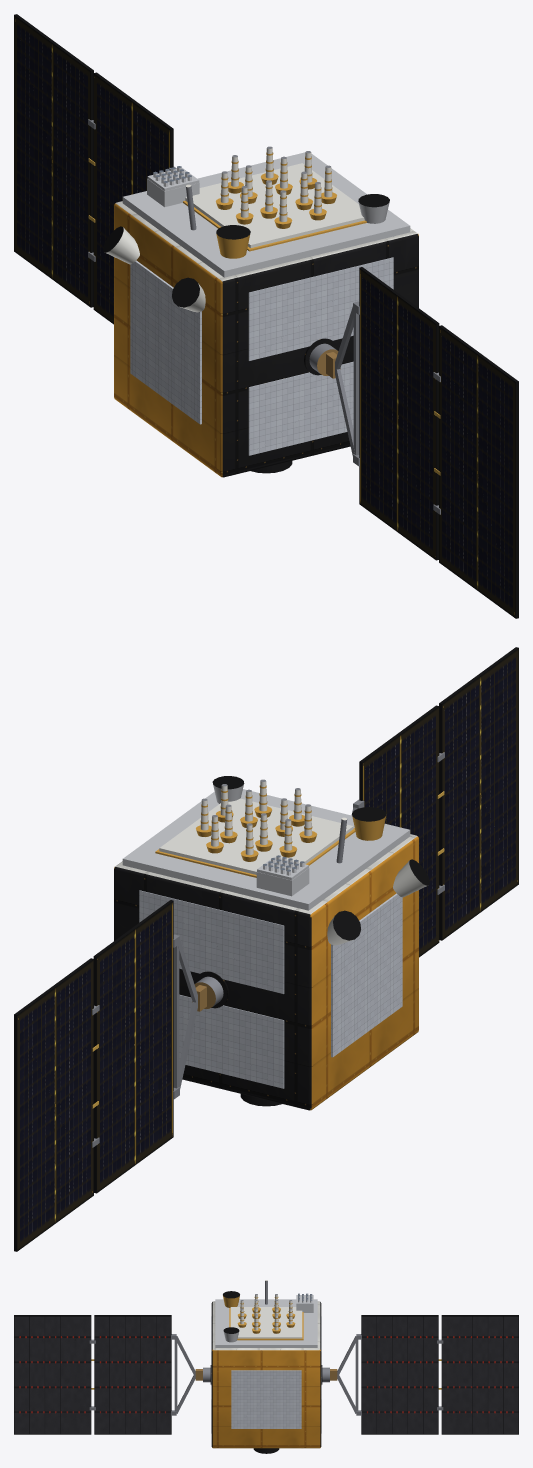
The model's file is navic-irnss1.glb.
3 renders of one model, top to bottom at view 1: azimuth 30°, elevation 25°; view 2: azimuth 150°, elevation 25°; view 3: azimuth 270°, elevation 25°, orthographic. The views are drawn at different scales.
Visible parts, largest first — view 1: bus, wing-Y, wing+Y, payload_deck, sadm_-Y; view 2: bus, wing+Y, wing-Y, payload_deck, sadm_+Y; view 3: wing+Y, wing-Y, bus, payload_deck.
Boxes of the visible parts, bbox=[...] form: bus: bbox=[103, 201, 418, 477]; wing-Y: bbox=[326, 267, 518, 618]; wing+Y: bbox=[14, 14, 176, 324]; payload_deck: bbox=[122, 146, 410, 277]; sadm_-Y: bbox=[304, 338, 338, 375]; bus: bbox=[114, 834, 429, 1110]; wing+Y: bbox=[14, 900, 206, 1251]; wing-Y: bbox=[351, 647, 518, 957]; payload_deck: bbox=[122, 776, 410, 910]; sadm_+Y: bbox=[194, 971, 228, 1008]; wing+Y: bbox=[330, 1315, 518, 1434]; wing-Y: bbox=[14, 1315, 202, 1434]; bus: bbox=[211, 1301, 321, 1453]; payload_deck: bbox=[215, 1280, 317, 1347].
Bounding box in the file's own units: 1.81 × 2.25 × 6.92.
Materials: 17 (6 with a texture image).
